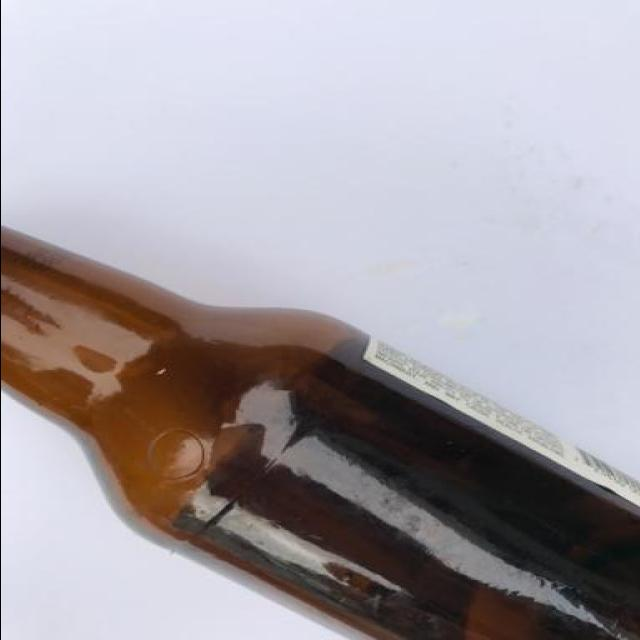litter: (4, 222, 638, 638)
